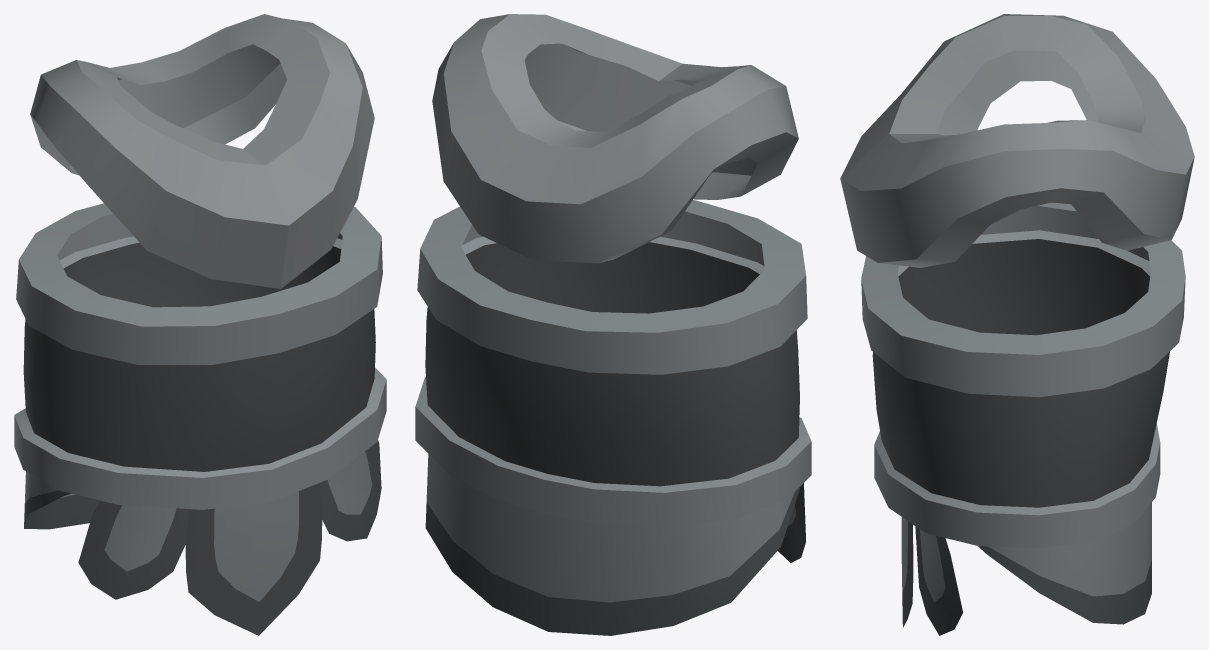
File: Costume_9_01.glb
The picture shows the model from 3 angles, left to right: view 1: azimuth 30°, elevation 25°; view 2: azimuth 150°, elevation 25°; view 3: azimuth 270°, elevation 25°; orthographic projection. The views are drawn at different scales.
Visible parts, largest first — view 1: Costume_9_01; view 2: Costume_9_01; view 3: Costume_9_01.
Boxes of the visible parts, x1,y1,x2,y2 form: Costume_9_01: (14, 14, 386, 635); Costume_9_01: (415, 14, 811, 635); Costume_9_01: (840, 14, 1194, 635).
Size of the model in its own units: 0.2656 by 0.4008 by 0.2305.
1 material, 1 textured.
